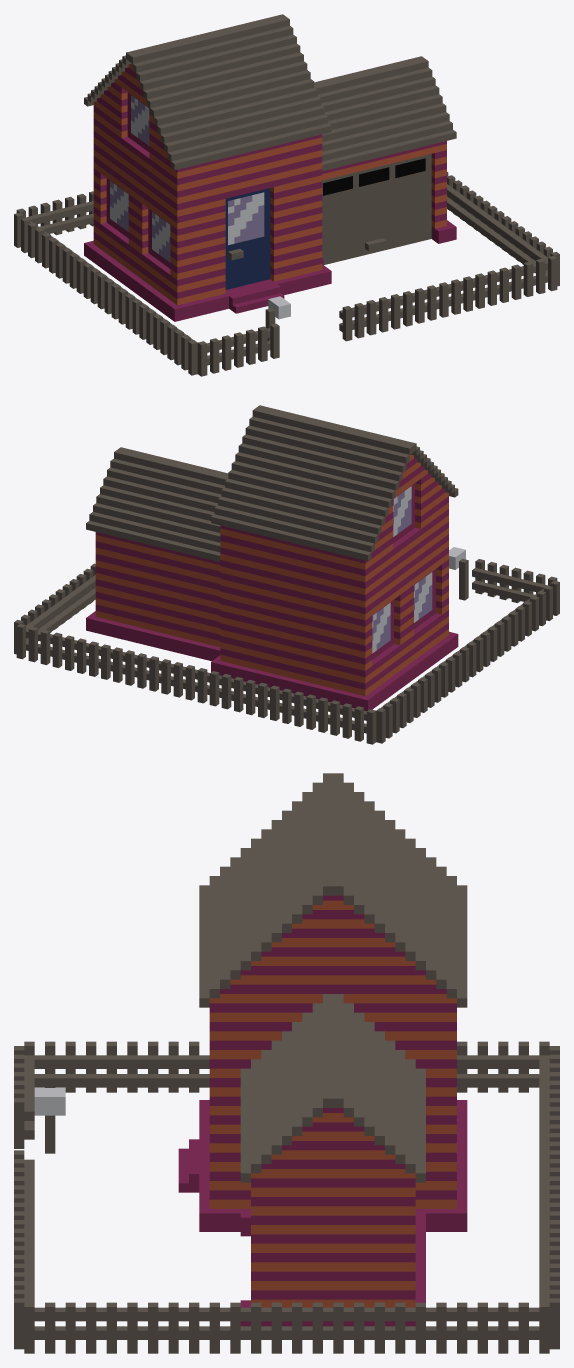
The model's file is house_b_a.obj.
3 views of the same model, one above another, from view 1: azimuth 30°, elevation 25°; view 2: azimuth 150°, elevation 25°; view 3: azimuth 270°, elevation 25° (orthographic). The views are drawn at different scales.
Size of the model in its own units: 6.1 by 3.7 by 5.3.
Materials: 1 (1 with a texture image).
